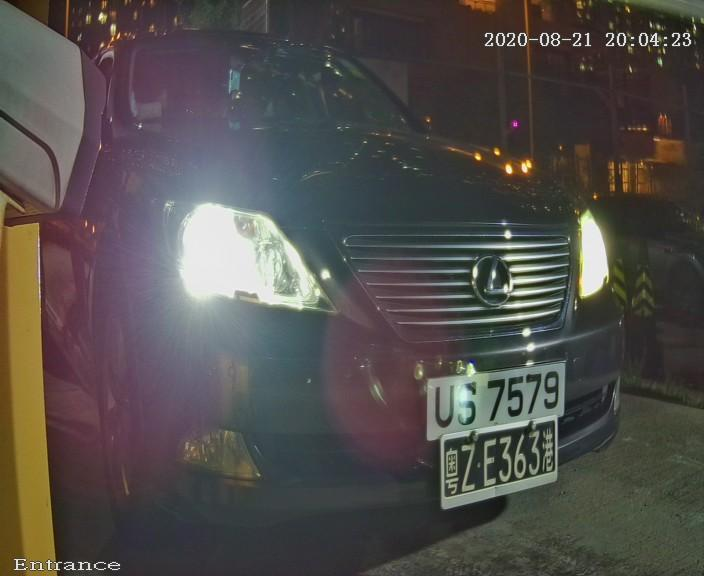License Plate: (399, 323, 594, 469)
